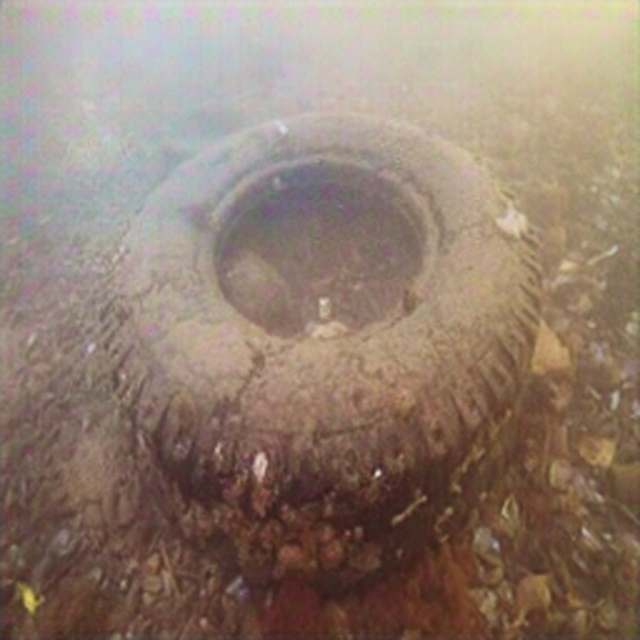mine: (98, 110, 545, 593)
